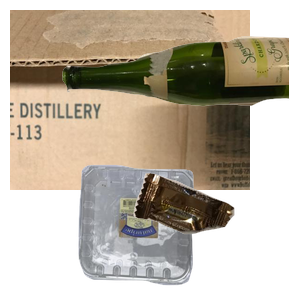cardboard: (10, 10, 250, 190)
glass: (60, 34, 300, 133)
plastic: (76, 162, 264, 300)
trash: (131, 171, 300, 300)
